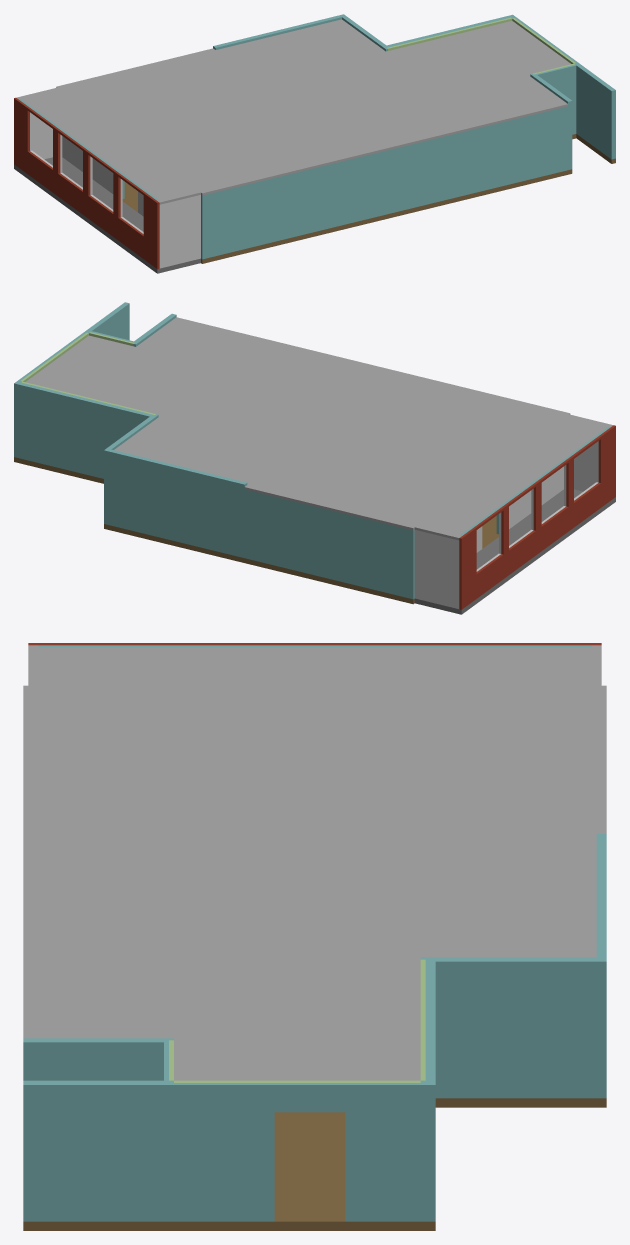
File: flat01b.obj
3 renders of one model, top to bottom at view 1: azimuth 30°, elevation 25°; view 2: azimuth 150°, elevation 25°; view 3: azimuth 270°, elevation 25°, orthographic. The views are drawn at different scales.
Size of the model in its own units: 21 by 3.2 by 11.6.
1 material, 1 textured.
